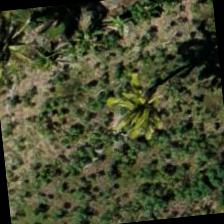Kelapa_Sawit: (86, 65, 185, 164), (0, 6, 53, 91)
